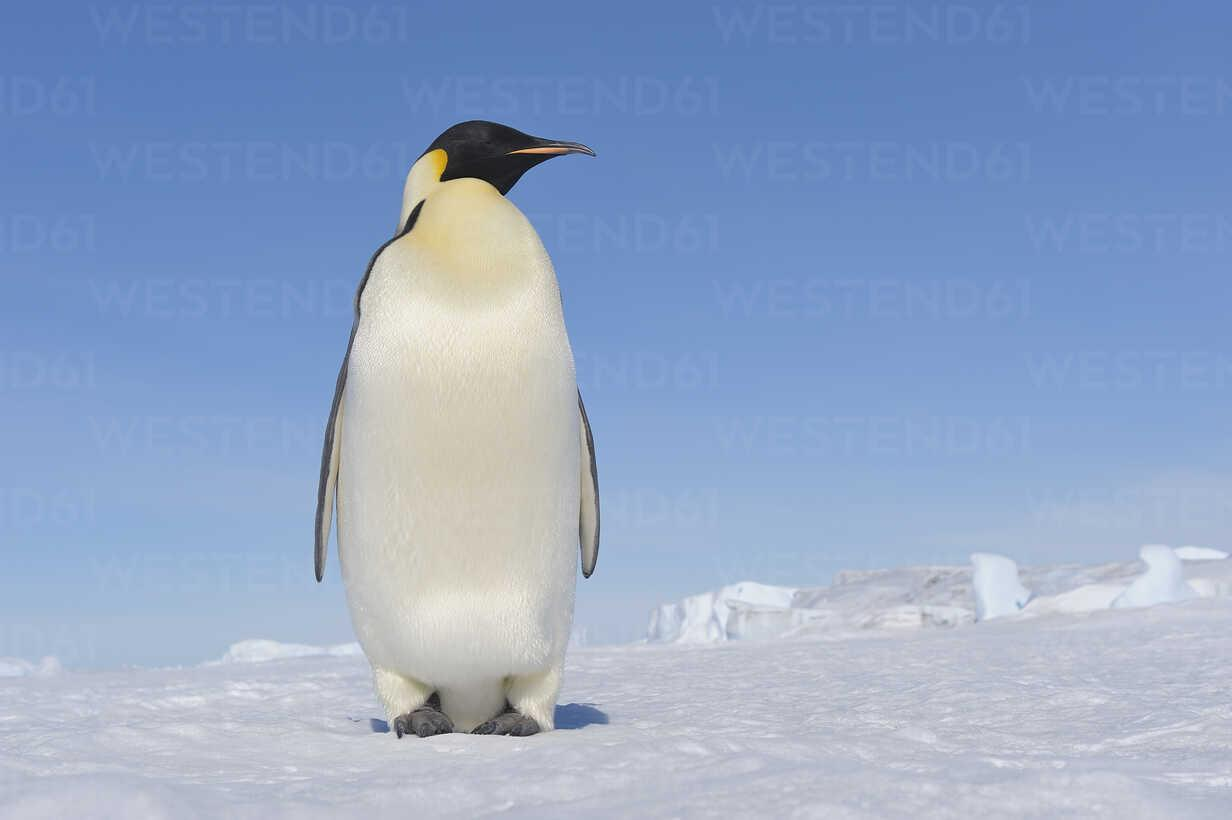emporer: (299, 100, 652, 745)
